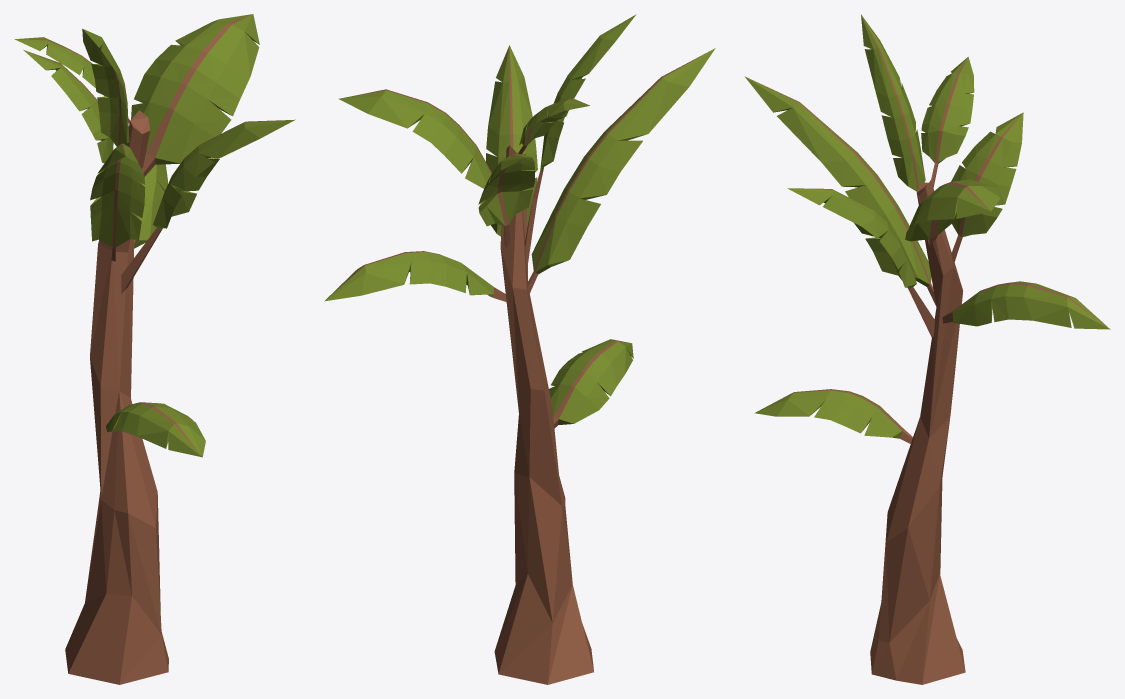
The model's file is Palm Tree_1_4.fbx.
The picture shows the model from 3 angles, left to right: view 1: azimuth 30°, elevation 25°; view 2: azimuth 150°, elevation 25°; view 3: azimuth 270°, elevation 25°; orthographic projection. The views are drawn at different scales.
Parts seen in each view (by area): view 1: Palm Tree_1_4; view 2: Palm Tree_1_4; view 3: Palm Tree_1_4.
Part boxes in pixels (x1,y1,x2,y2): Palm Tree_1_4: (14,14,295,684); Palm Tree_1_4: (324,14,715,684); Palm Tree_1_4: (744,14,1110,684).
Size of the model in its own units: 2.12 by 5.21 by 2.8.
